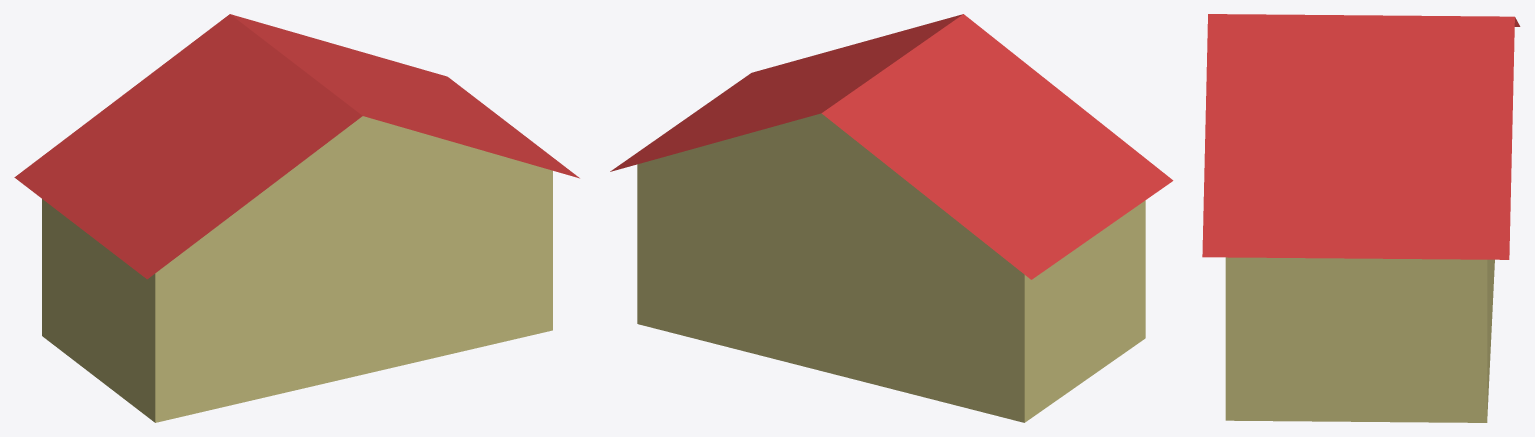
3 renders of one model, left to right at view 1: azimuth 30°, elevation 25°; view 2: azimuth 150°, elevation 25°; view 3: azimuth 270°, elevation 25°, orthographic. The views are drawn at different scales.
Bounding box in the file's own units: 24.56 × 14.02 × 14.55.
